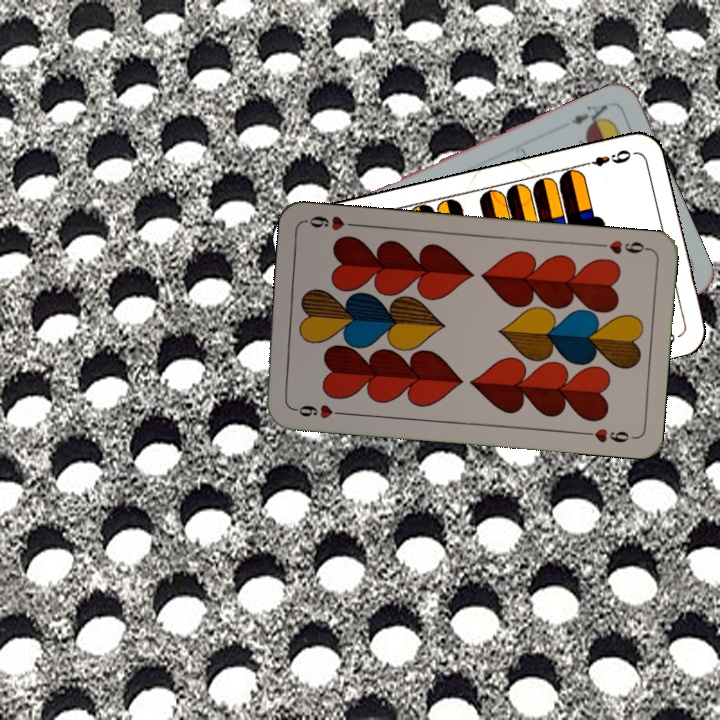E9: (578, 145, 637, 170)
EA: (567, 100, 611, 131)
H9: (288, 400, 348, 421), (593, 236, 652, 257)
